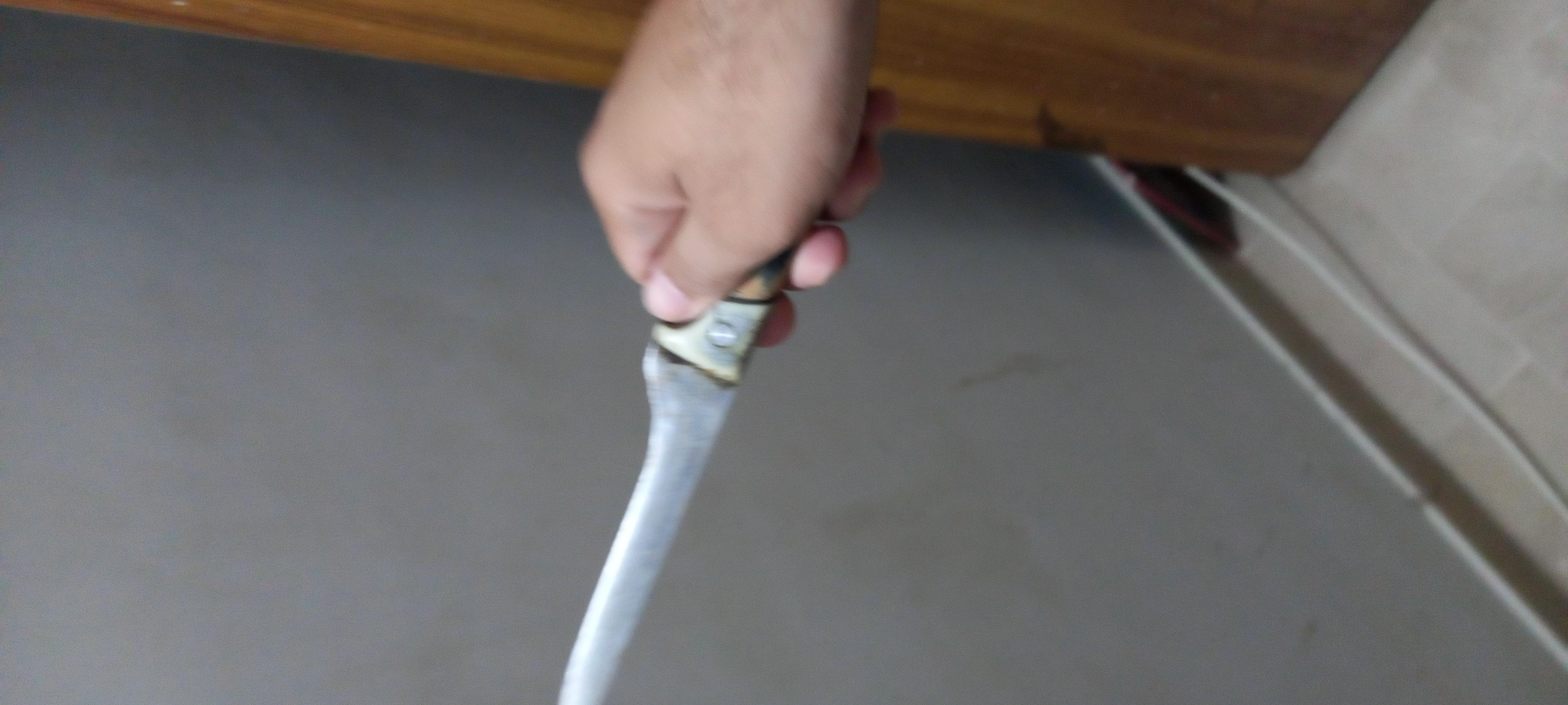knives: (1, 245, 1568, 407)
